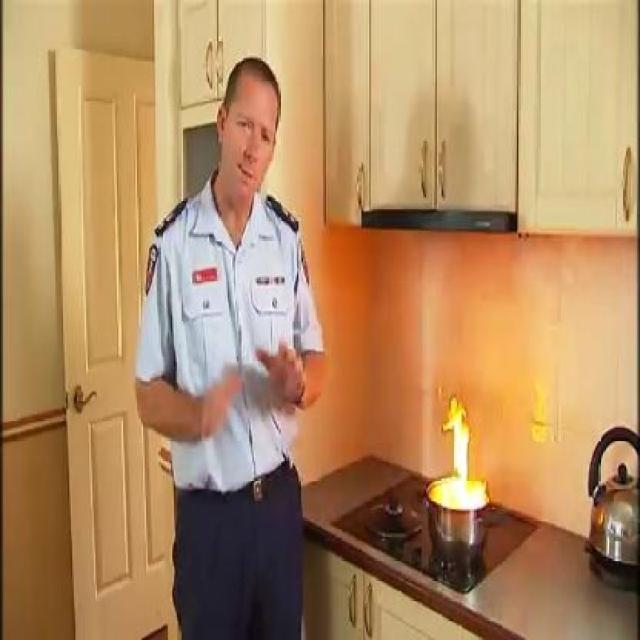fire: (437, 378, 492, 502)
